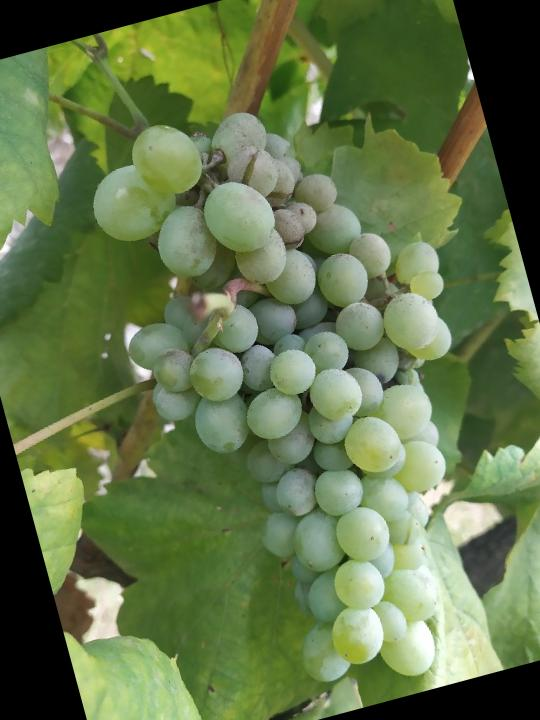grape: (69, 57, 540, 720)
